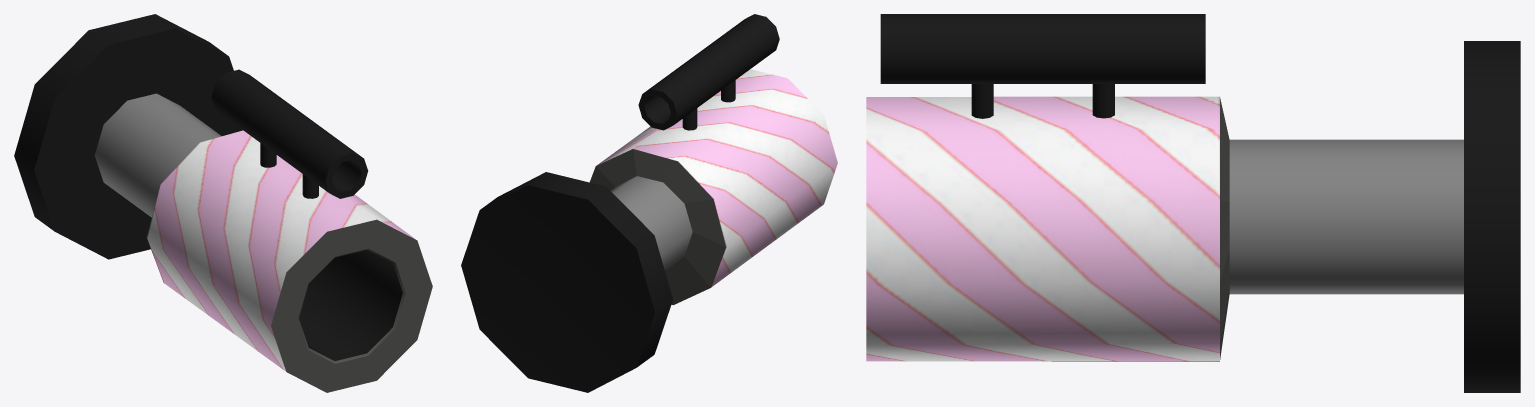
File: SKM_Sniper.fbx
The picture shows the model from 3 angles, left to right: view 1: azimuth 30°, elevation 25°; view 2: azimuth 150°, elevation 25°; view 3: azimuth 270°, elevation 25°; orthographic projection. The views are drawn at different scales.
Visible parts, largest first — view 1: SKM_Sniper; view 2: SKM_Sniper; view 3: SKM_Sniper.
Boxes of the visible parts, bbox=[...] form: SKM_Sniper: bbox=[14, 14, 432, 392]; SKM_Sniper: bbox=[461, 14, 837, 392]; SKM_Sniper: bbox=[866, 14, 1520, 392].
Size of the model in its own units: 0.7512 by 0.8211 by 1.39.
Materials: 5 (1 with a texture image).
